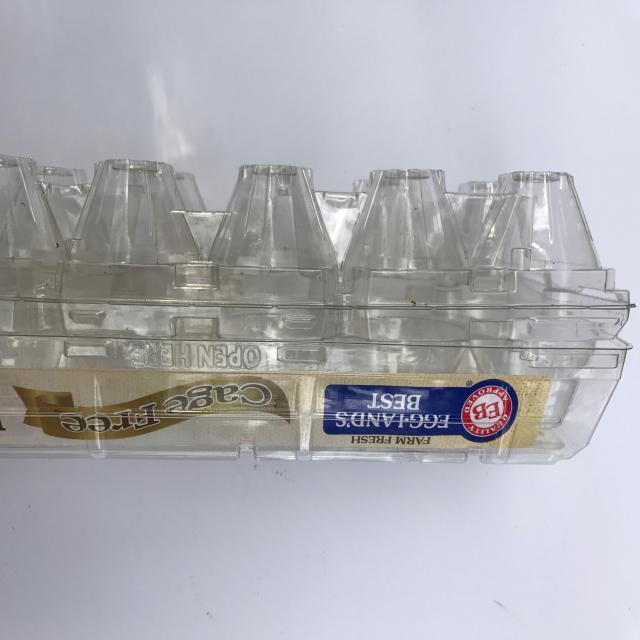plastic: (1, 147, 637, 484)
